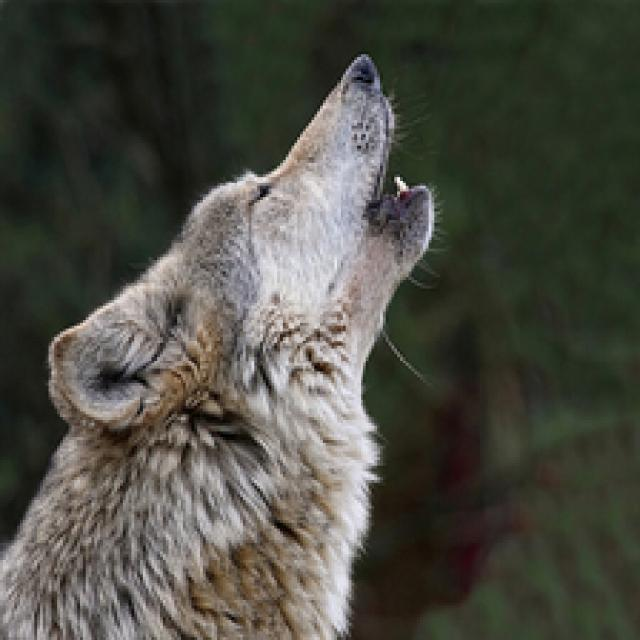wolf: (1, 39, 454, 640)
